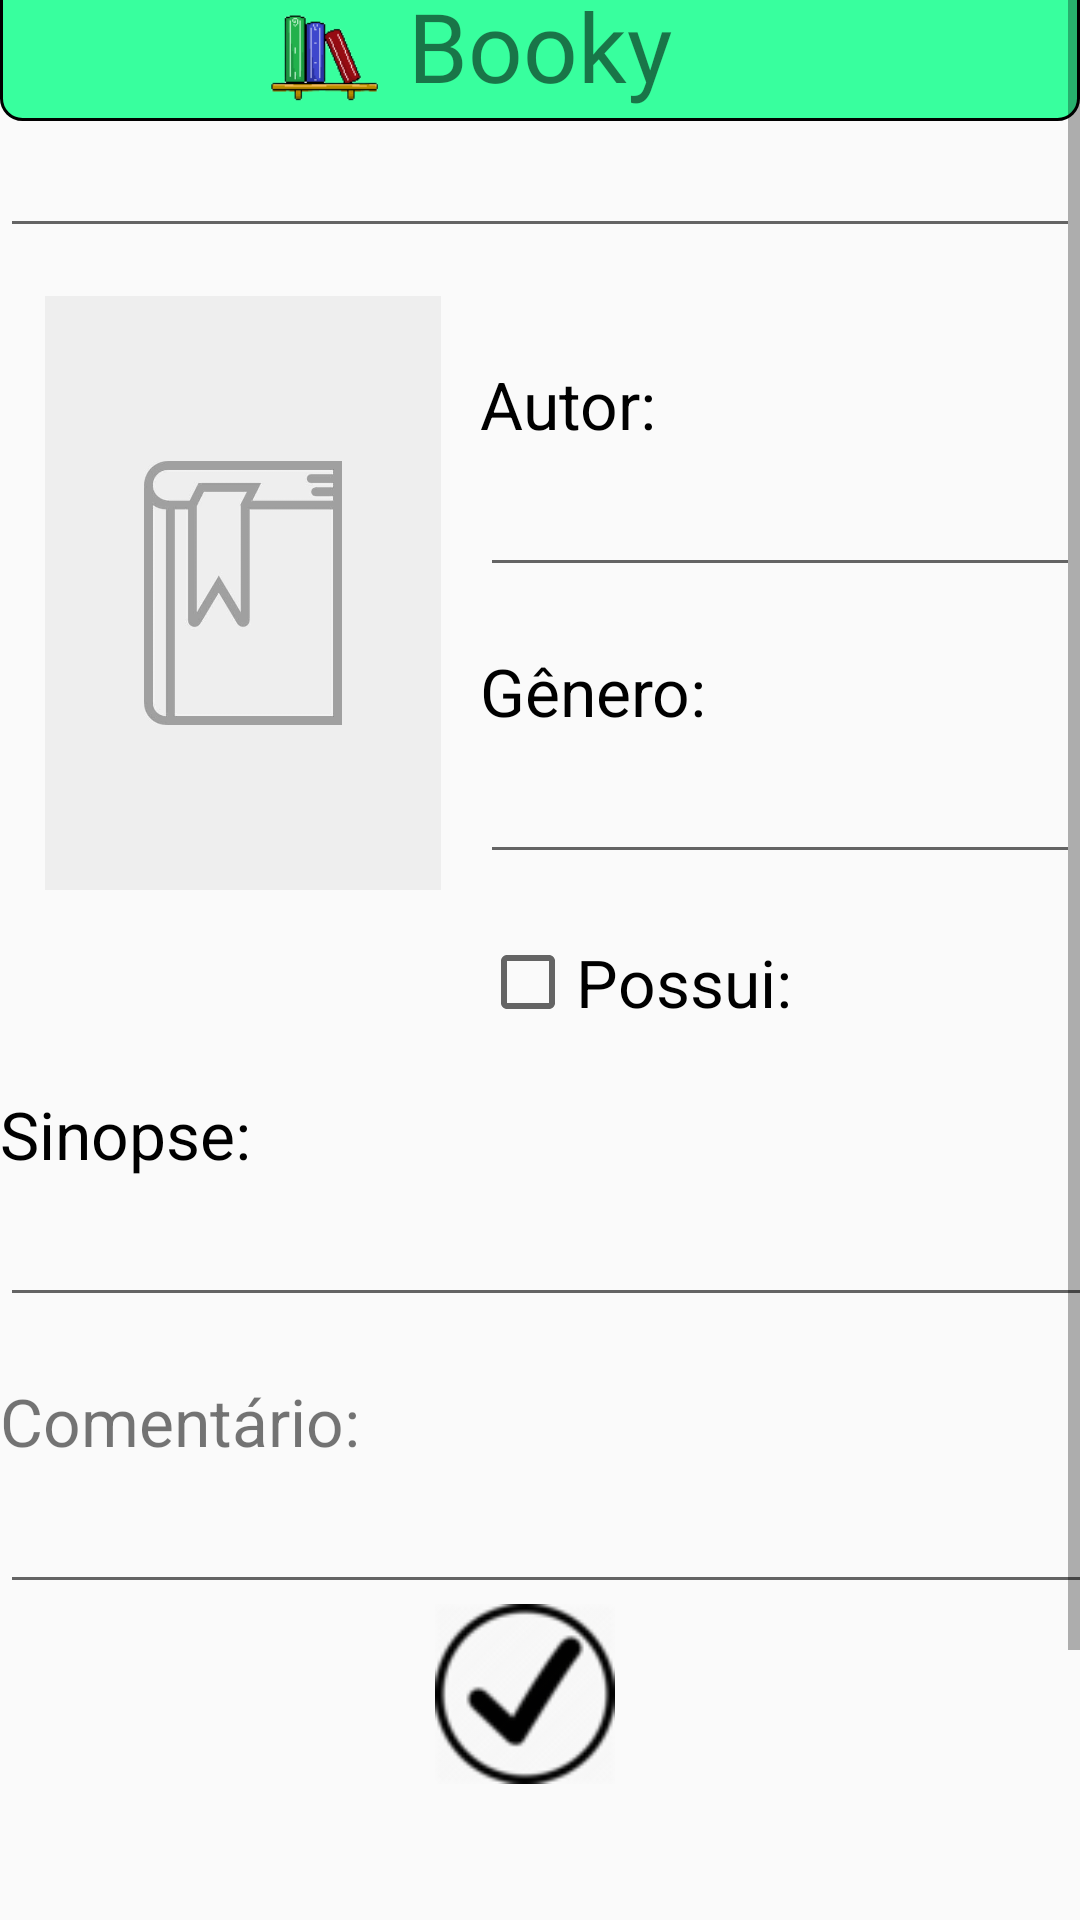

Screen size 1080x1920. Icon name, then its box in pixels as (x1, y1, x2, y2):
confirm: (435, 1604, 615, 1784)
